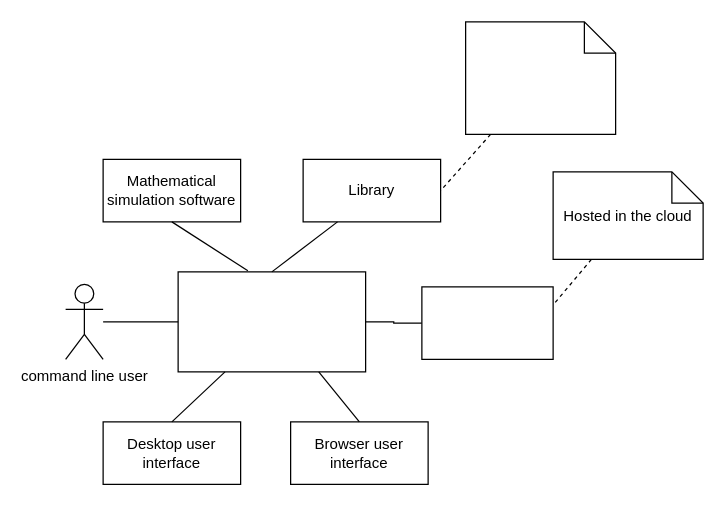
This 725x506 diagram has some shape labels left out. The centre of each missing label's shape, as x and y in pixels:
"<<system>> Super Calculator" belongs at (x=271, y=321).
"Micro service that integrates math functions" belongs at (x=487, y=322).
"Ported and use in other programming languages" belongs at (x=540, y=77).
